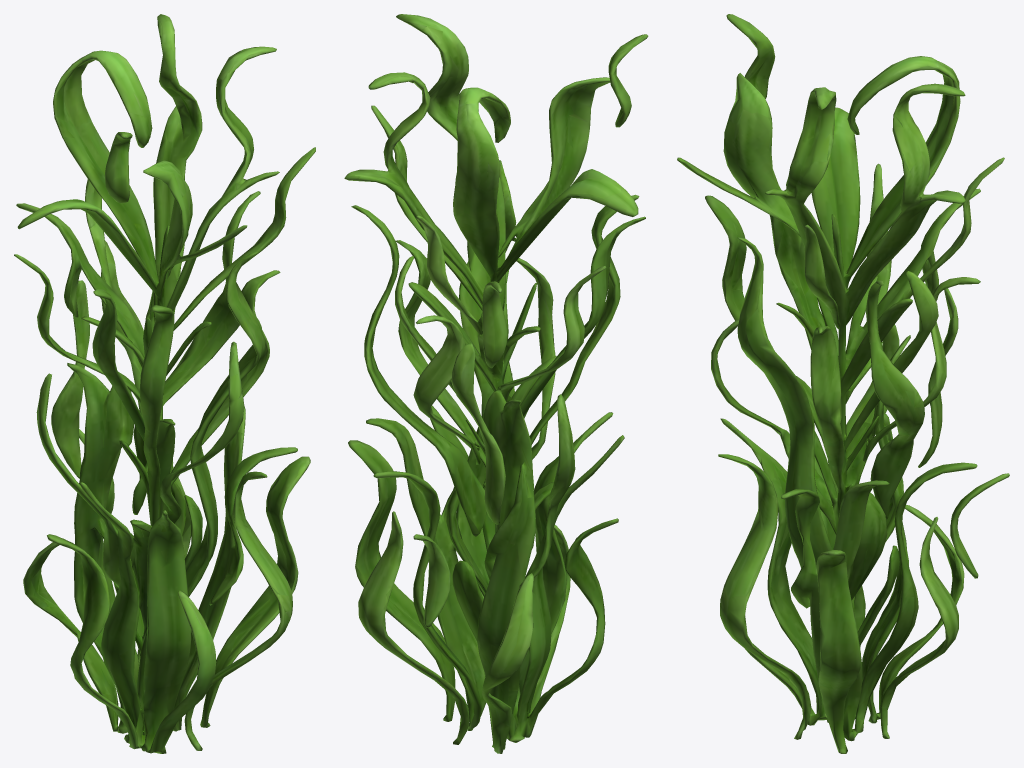
File: decor_kelp.glb
3 views of the same model, side by side, from view 1: azimuth 30°, elevation 25°; view 2: azimuth 150°, elevation 25°; view 3: azimuth 270°, elevation 25° (orthographic).
Visible parts, largest first — view 1: Mesh_0; view 2: Mesh_0; view 3: Mesh_0.
Part boxes in pixels (x1=…): Mesh_0: x1=14, y1=14, x2=315, y2=753; Mesh_0: x1=344, y1=14, x2=648, y2=753; Mesh_0: x1=677, y1=14, x2=1009, y2=753.
Bounding box in the file's own units: 0.8495 × 1.91 × 0.8462.
1 material, 1 textured.
